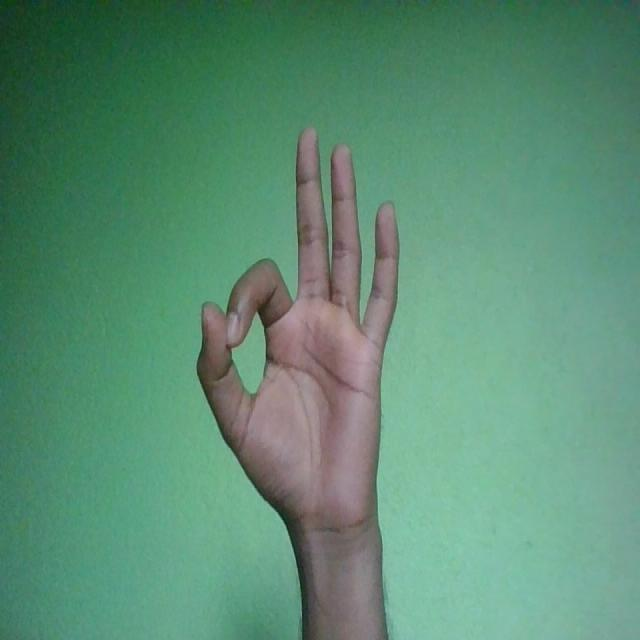Rock On: (196, 125, 400, 539)
